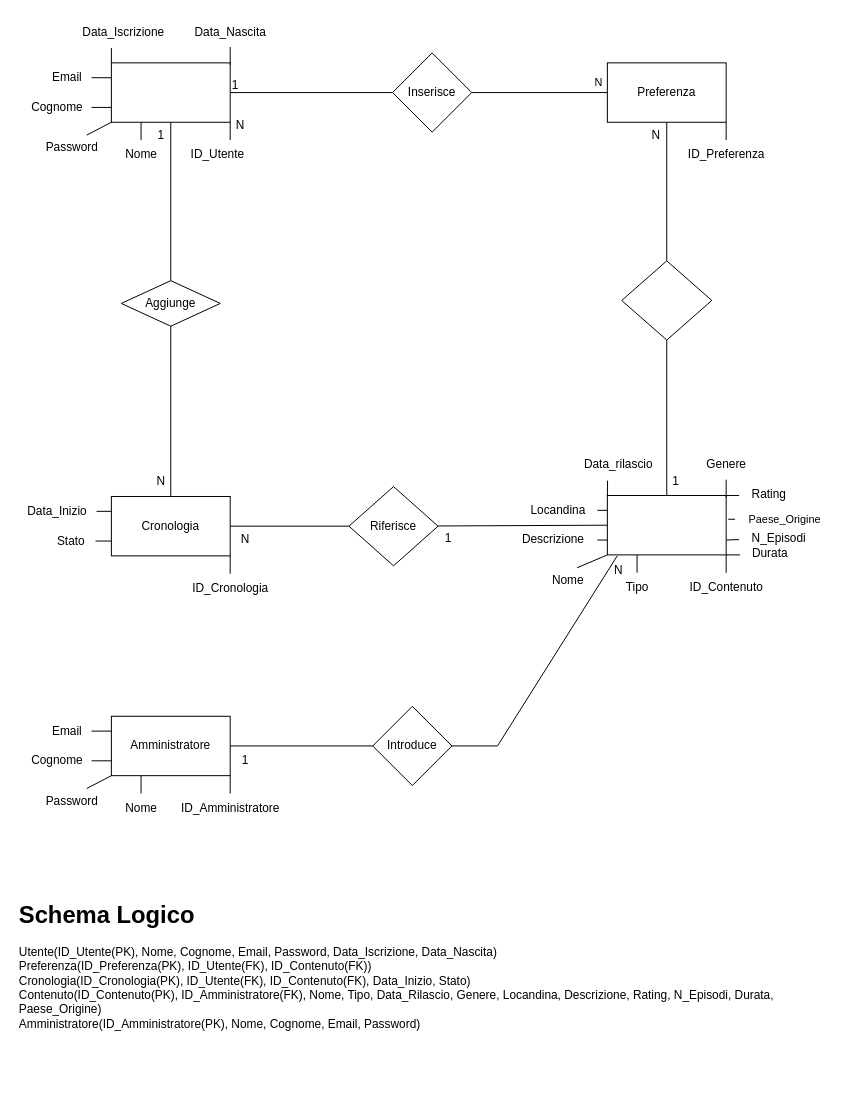
Image size: 850x1102. Some labels were removed from this diagram. Here are the shapes that lost their labels. From the top down, the box of each, then its label:
(110, 62, 230, 122): Utente
(621, 260, 712, 340): Fa riferimento
(606, 495, 726, 555): Contenuto
